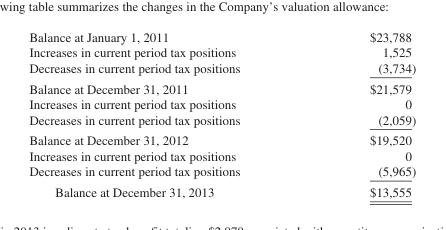table: (28, 29, 415, 198)
table column: (28, 29, 304, 198), (304, 29, 415, 198)
table row: (28, 59, 415, 77), (28, 77, 415, 95), (28, 111, 415, 129), (28, 129, 415, 147), (28, 163, 415, 181), (28, 181, 415, 198), (28, 95, 415, 111), (28, 147, 415, 163), (28, 29, 415, 44), (28, 44, 415, 59)
